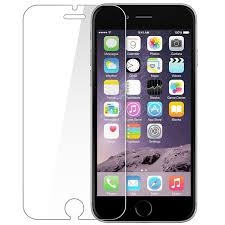iphone: (89, 1, 198, 224)
iphone7: (88, 1, 197, 224)
